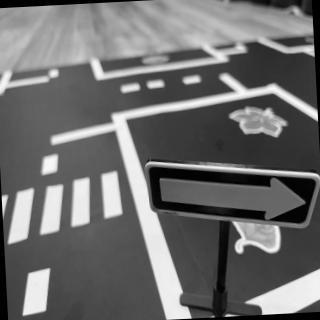road_crosswalk: (2, 166, 128, 251)
sign_oneway_right: (147, 154, 320, 240)
